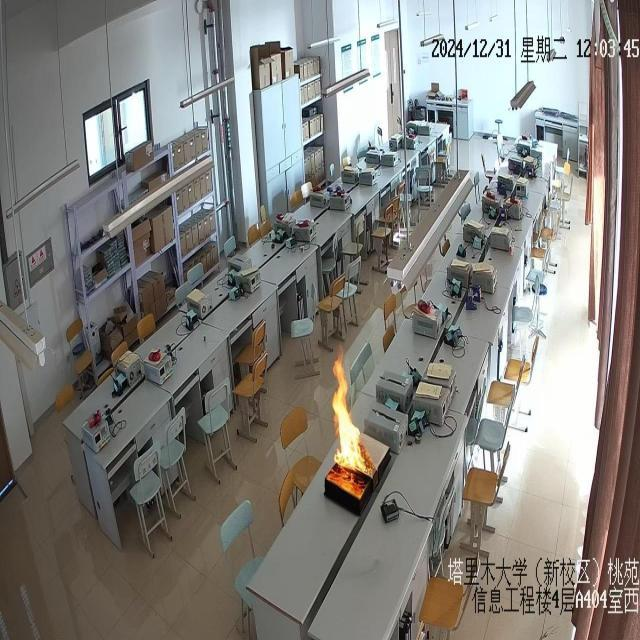smoke: (328, 352, 374, 484)
